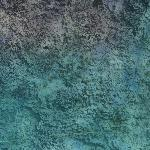dead: (1, 2, 146, 147)
